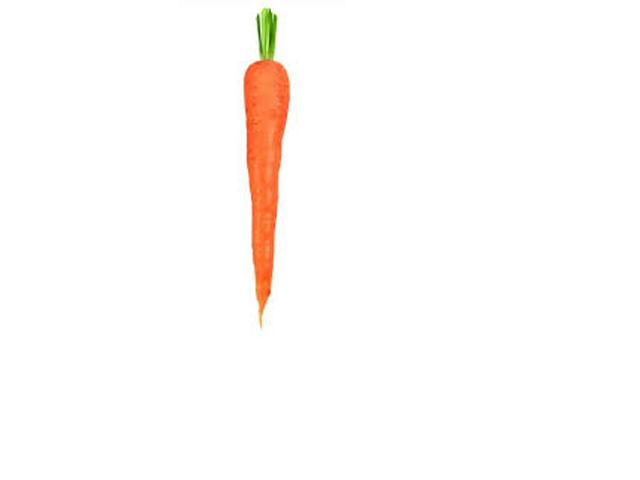carrot: (229, 52, 301, 332)
